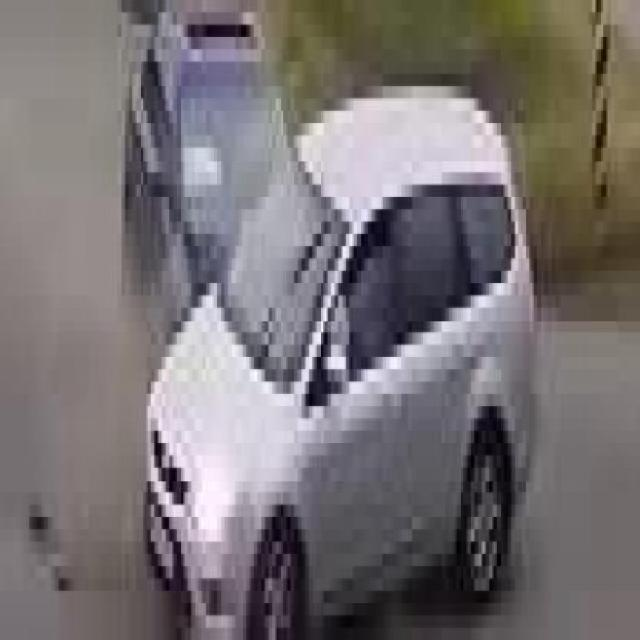accident: (106, 15, 517, 623)
